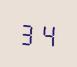four: (38, 20, 56, 47)
three: (19, 19, 37, 46)
